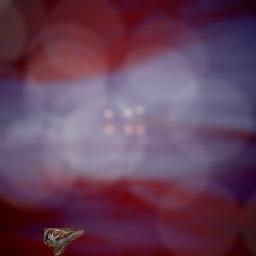Sparrow: (44, 228, 84, 256)
